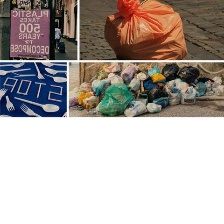plastic_bag: (98, 0, 192, 61)
